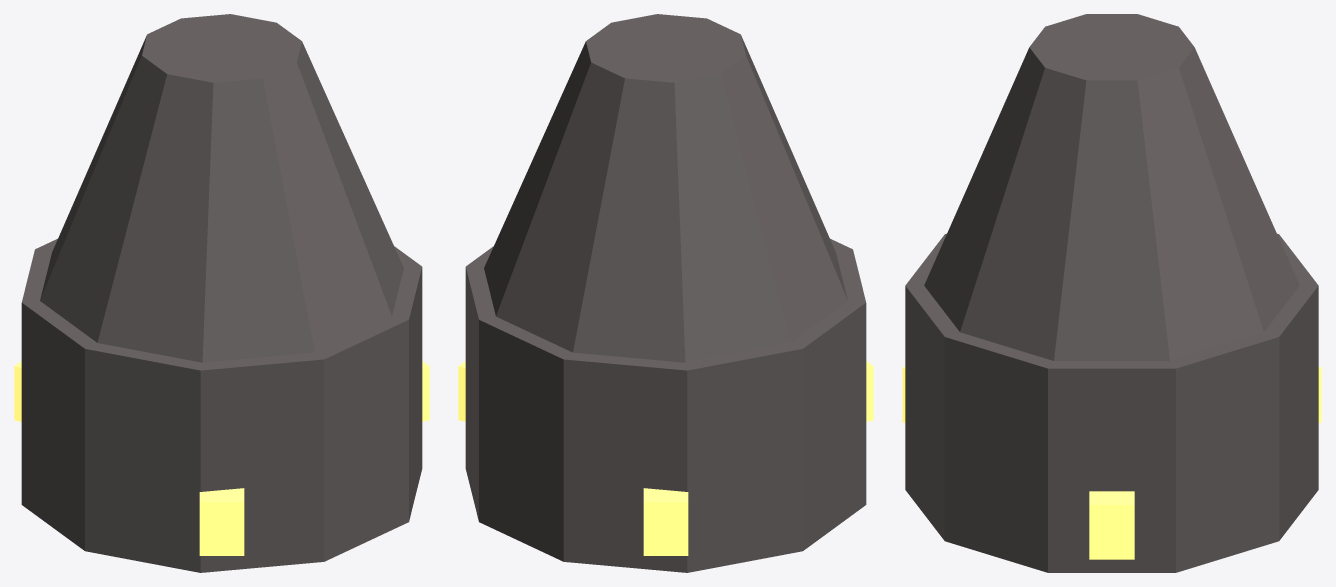
The model's file is structure_slag_refinery_furnace.glb.
3 renders of one model, left to right at view 1: azimuth 30°, elevation 25°; view 2: azimuth 150°, elevation 25°; view 3: azimuth 270°, elevation 25°, orthographic.
Parts seen in each view (by area): view 1: Slag_Exhaust_Funnel, Slag_Refinery_Vat, Slag_Purge_Port_3; view 2: Slag_Exhaust_Funnel, Slag_Refinery_Vat, Slag_Purge_Port_2; view 3: Slag_Exhaust_Funnel, Slag_Refinery_Vat, Slag_Purge_Port_1.
Boxes of the visible parts, left/top/right/bottom form: Slag_Exhaust_Funnel: left=40, top=14, right=403, bottom=362; Slag_Refinery_Vat: left=21, top=238, right=422, bottom=572; Slag_Purge_Port_3: left=199, top=488, right=244, bottom=555; Slag_Exhaust_Funnel: left=484, top=14, right=847, bottom=362; Slag_Refinery_Vat: left=465, top=238, right=866, bottom=572; Slag_Purge_Port_2: left=643, top=488, right=688, bottom=555; Slag_Exhaust_Funnel: left=924, top=14, right=1299, bottom=360; Slag_Refinery_Vat: left=905, top=233, right=1318, bottom=572; Slag_Purge_Port_1: left=1089, top=491, right=1134, bottom=559.
Size of the model in its own units: 11.33 by 13 by 11.17.
